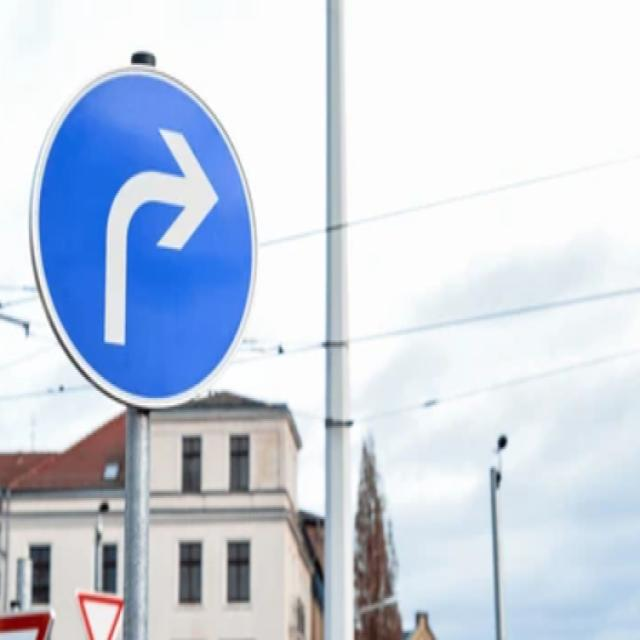RIGHT: (30, 53, 257, 638)
